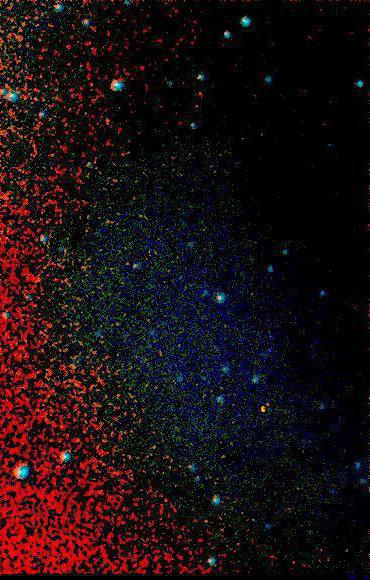star: (127, 53, 157, 83)
